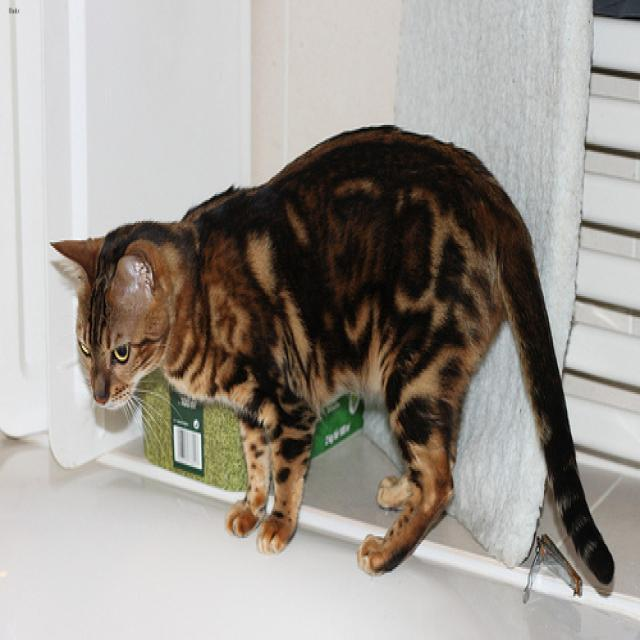Bengal: (48, 230, 189, 425)
